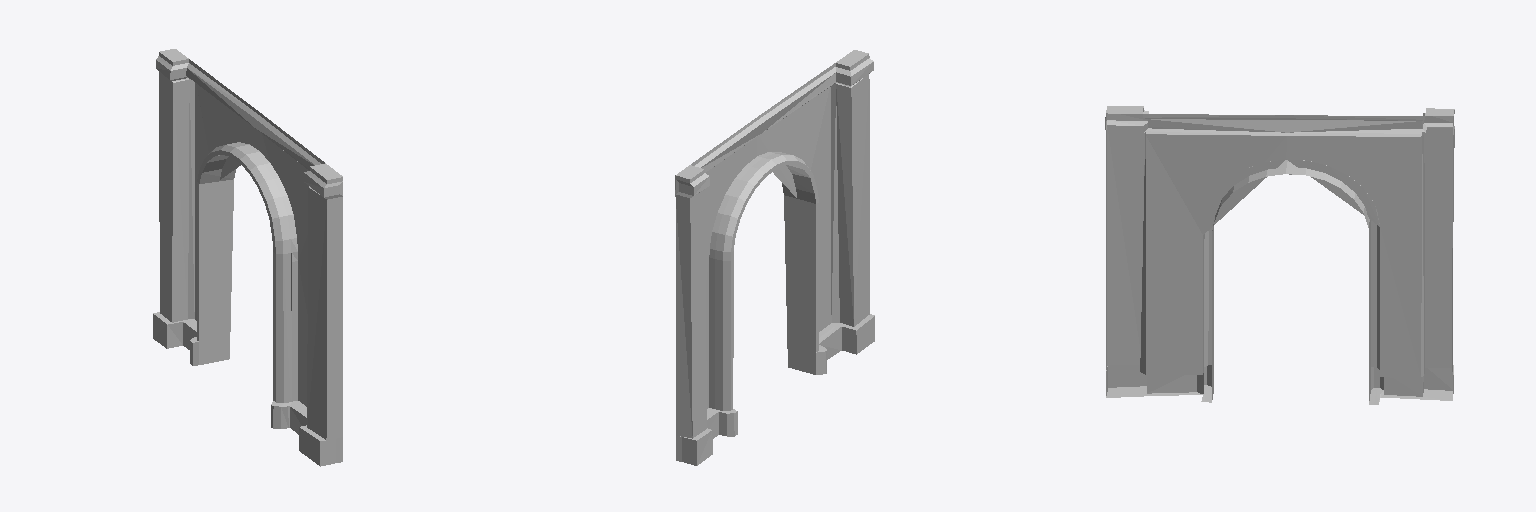
Rendered from Atrium_Arch.obj.
3 views of the same model, side by side, from view 1: azimuth 30°, elevation 25°; view 2: azimuth 150°, elevation 25°; view 3: azimuth 270°, elevation 25° (orthographic).
Parts seen in each view (by area): view 1: Arch_9; view 2: Arch_9; view 3: Arch_9.
Boxes of the visible parts, x1,y1,x2,y2 form: Arch_9: [153, 49, 342, 466]; Arch_9: [675, 50, 874, 465]; Arch_9: [1105, 106, 1454, 404].
Bounding box in the file's own units: 51.92 × 310 × 344.